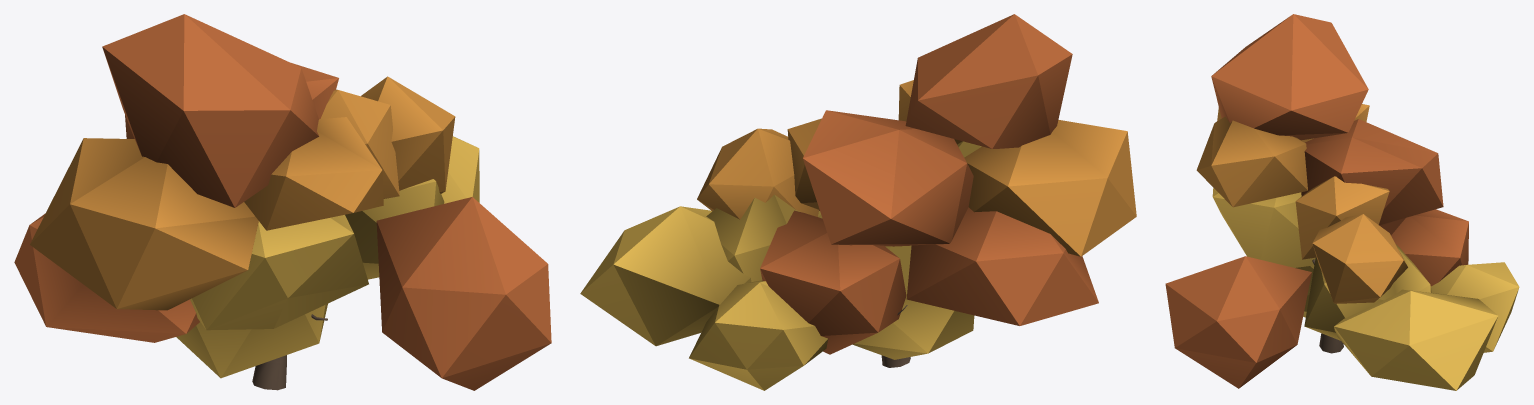
File: obj_deco_matorral_3.glb
3 renders of one model, left to right at view 1: azimuth 30°, elevation 25°; view 2: azimuth 150°, elevation 25°; view 3: azimuth 270°, elevation 25°, orthographic. The views are drawn at different scales.
Parts seen in each view (by area): view 1: propforge-libre-deco_matorral; view 2: propforge-libre-deco_matorral; view 3: propforge-libre-deco_matorral.
Part boxes in pixels (x1,y1,x2,y2): propforge-libre-deco_matorral: [14, 14, 551, 390]; propforge-libre-deco_matorral: [580, 14, 1136, 390]; propforge-libre-deco_matorral: [1165, 14, 1519, 390].
Size of the model in its own units: 0.6832 by 0.5324 by 0.5772.
